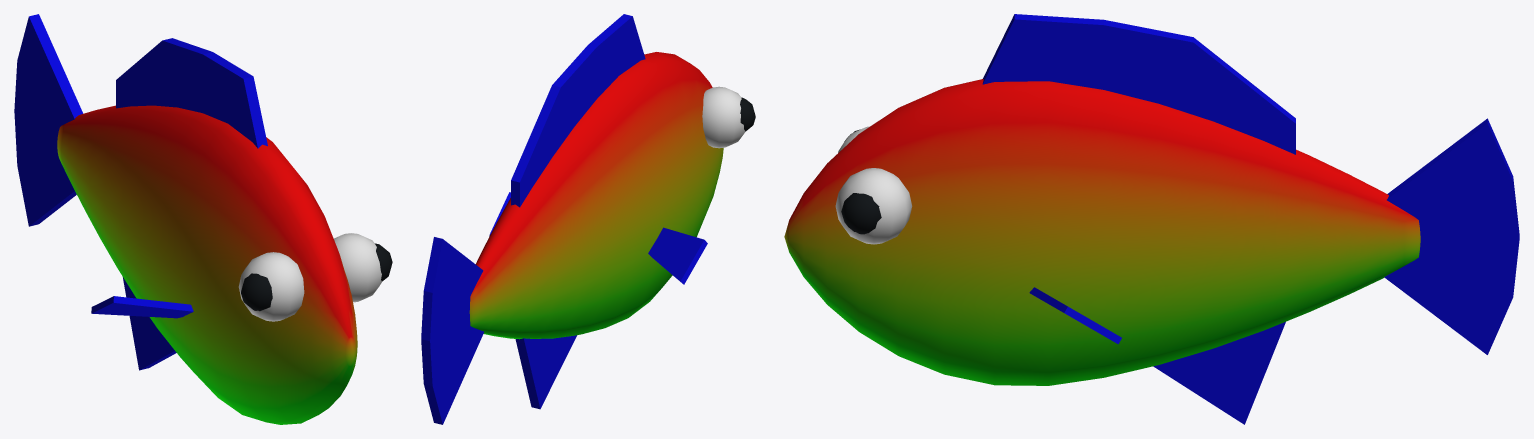
The model's file is fish_tall.glb.
3 renders of one model, left to right at view 1: azimuth 30°, elevation 25°; view 2: azimuth 150°, elevation 25°; view 3: azimuth 270°, elevation 25°, orthographic. The views are drawn at different scales.
Visible parts, largest first — view 1: Body, Eye; view 2: Body, Eye; view 3: Body, Eye.
Boxes of the visible parts, x1,y1,x2,y2 form: Body: (14, 14, 357, 424); Eye: (238, 233, 392, 321); Body: (421, 14, 723, 424); Eye: (702, 86, 755, 148); Body: (784, 14, 1519, 424); Eye: (835, 126, 912, 244).
Bounding box in the file's own units: 0.4477 × 0.7 × 1.15.
